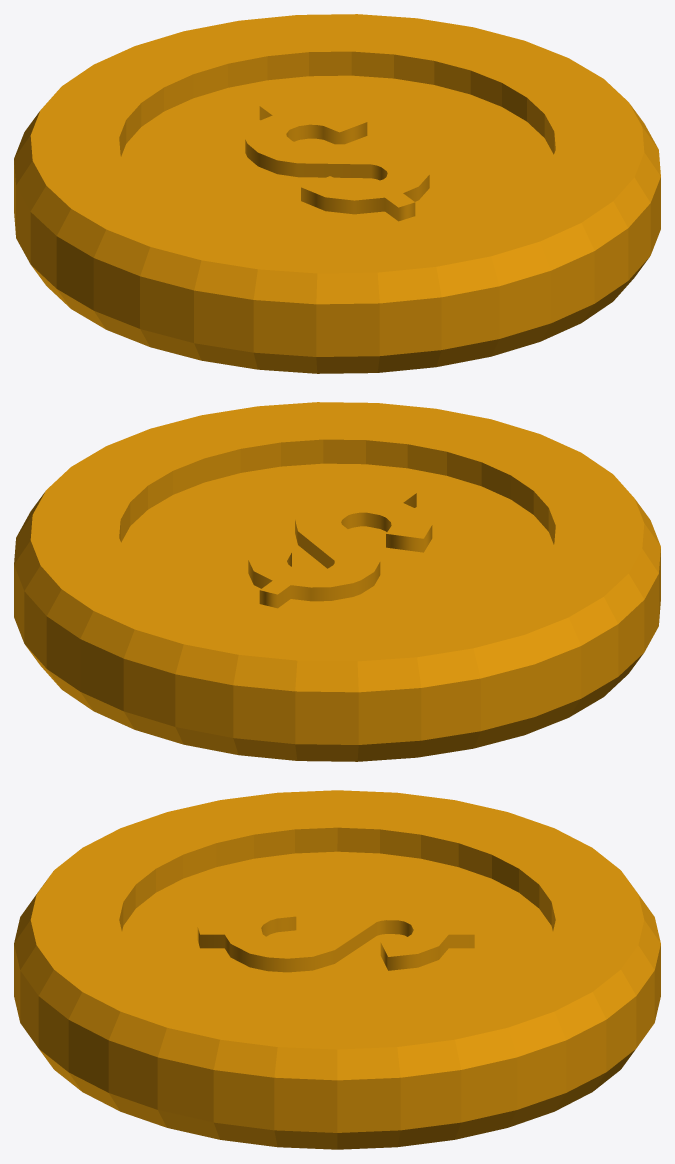
Rendered from coin.glb.
The picture shows the model from 3 angles, top to bottom: view 1: azimuth 30°, elevation 25°; view 2: azimuth 150°, elevation 25°; view 3: azimuth 270°, elevation 25°; orthographic projection.
Visible parts, largest first — view 1: Coin_New; view 2: Coin_New; view 3: Coin_New.
Boxes of the visible parts, x1=… form: Coin_New: x1=14, y1=14, x2=660, y2=373; Coin_New: x1=14, y1=402, x2=660, y2=761; Coin_New: x1=14, y1=790, x2=660, y2=1149.
Bounding box in the file's own units: 2 × 0.3417 × 2.
